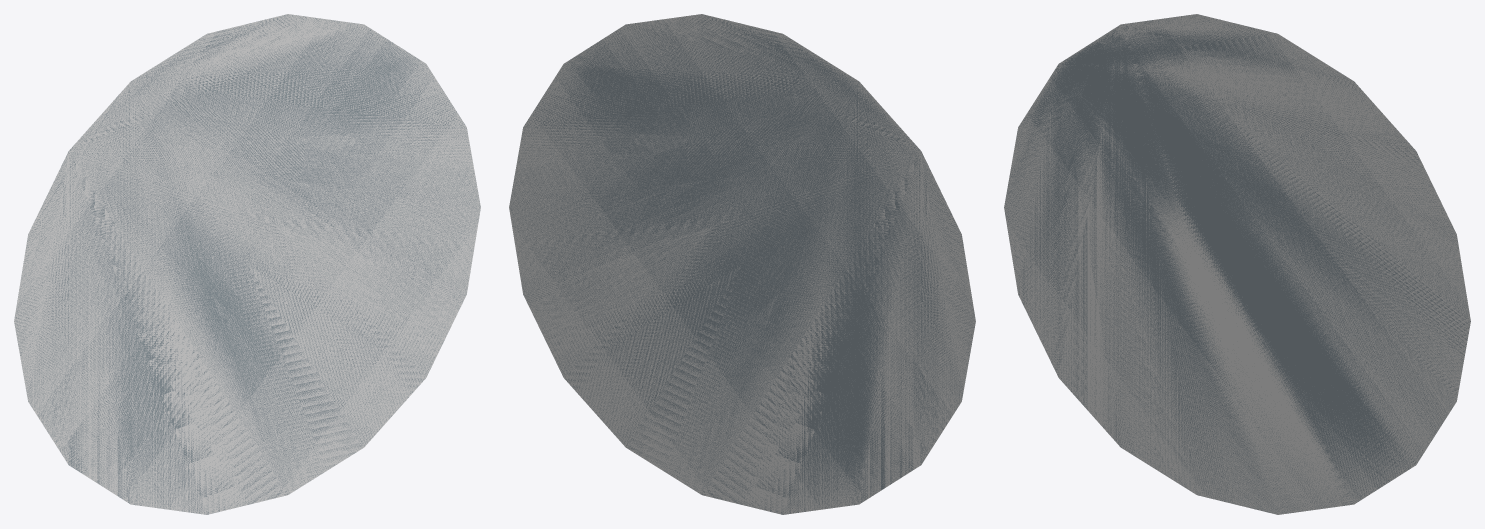
The model's file is Round_18.obj.
3 views of the same model, side by side, from view 1: azimuth 30°, elevation 25°; view 2: azimuth 150°, elevation 25°; view 3: azimuth 330°, elevation 25° (orthographic).
Visible parts, largest first — view 1: Mesh1 Model; view 2: Mesh1 Model; view 3: Mesh1 Model.
Boxes of the visible parts, x1=… form: Mesh1 Model: x1=14, y1=14, x2=480, y2=514; Mesh1 Model: x1=509, y1=14, x2=975, y2=514; Mesh1 Model: x1=1004, y1=14, x2=1470, y2=514.
Bounding box in the file's own units: 1.34 × 1.32 × 0.
